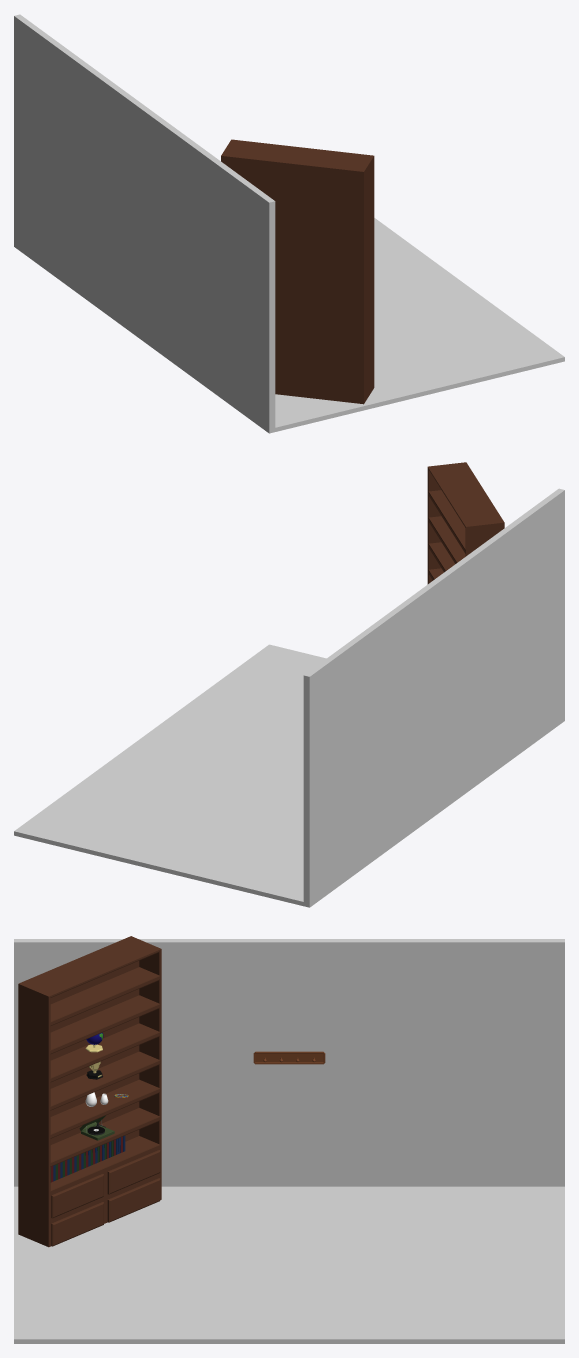
File: sala_detetive_asset.fbx
3 renders of one model, top to bottom at view 1: azimuth 30°, elevation 25°; view 2: azimuth 150°, elevation 25°; view 3: azimuth 270°, elevation 25°, orthographic. The views are drawn at different scales.
Parts seen in each view (by area): view 1: Cube, Cube.010; view 2: Cube, Cube.010; view 3: Cube, Cube.010, Cube.001, Book4, Book4.001.
Boxes of the visible parts, <box> form: Cube: <box>14,14,564,433</box>; Cube.010: <box>221,139,374,404</box>; Cube: <box>14,488,564,907</box>; Cube.010: <box>427,462,504,584</box>; Cube: <box>14,939,564,1343</box>; Cube.010: <box>18,936,161,1247</box>; Cube.001: <box>253,1051,325,1064</box>; Book4: <box>53,1135,125,1181</box>; Book4.001: <box>51,1136,122,1182</box>.
Size of the model in its own units: 611 by 467 by 913.
